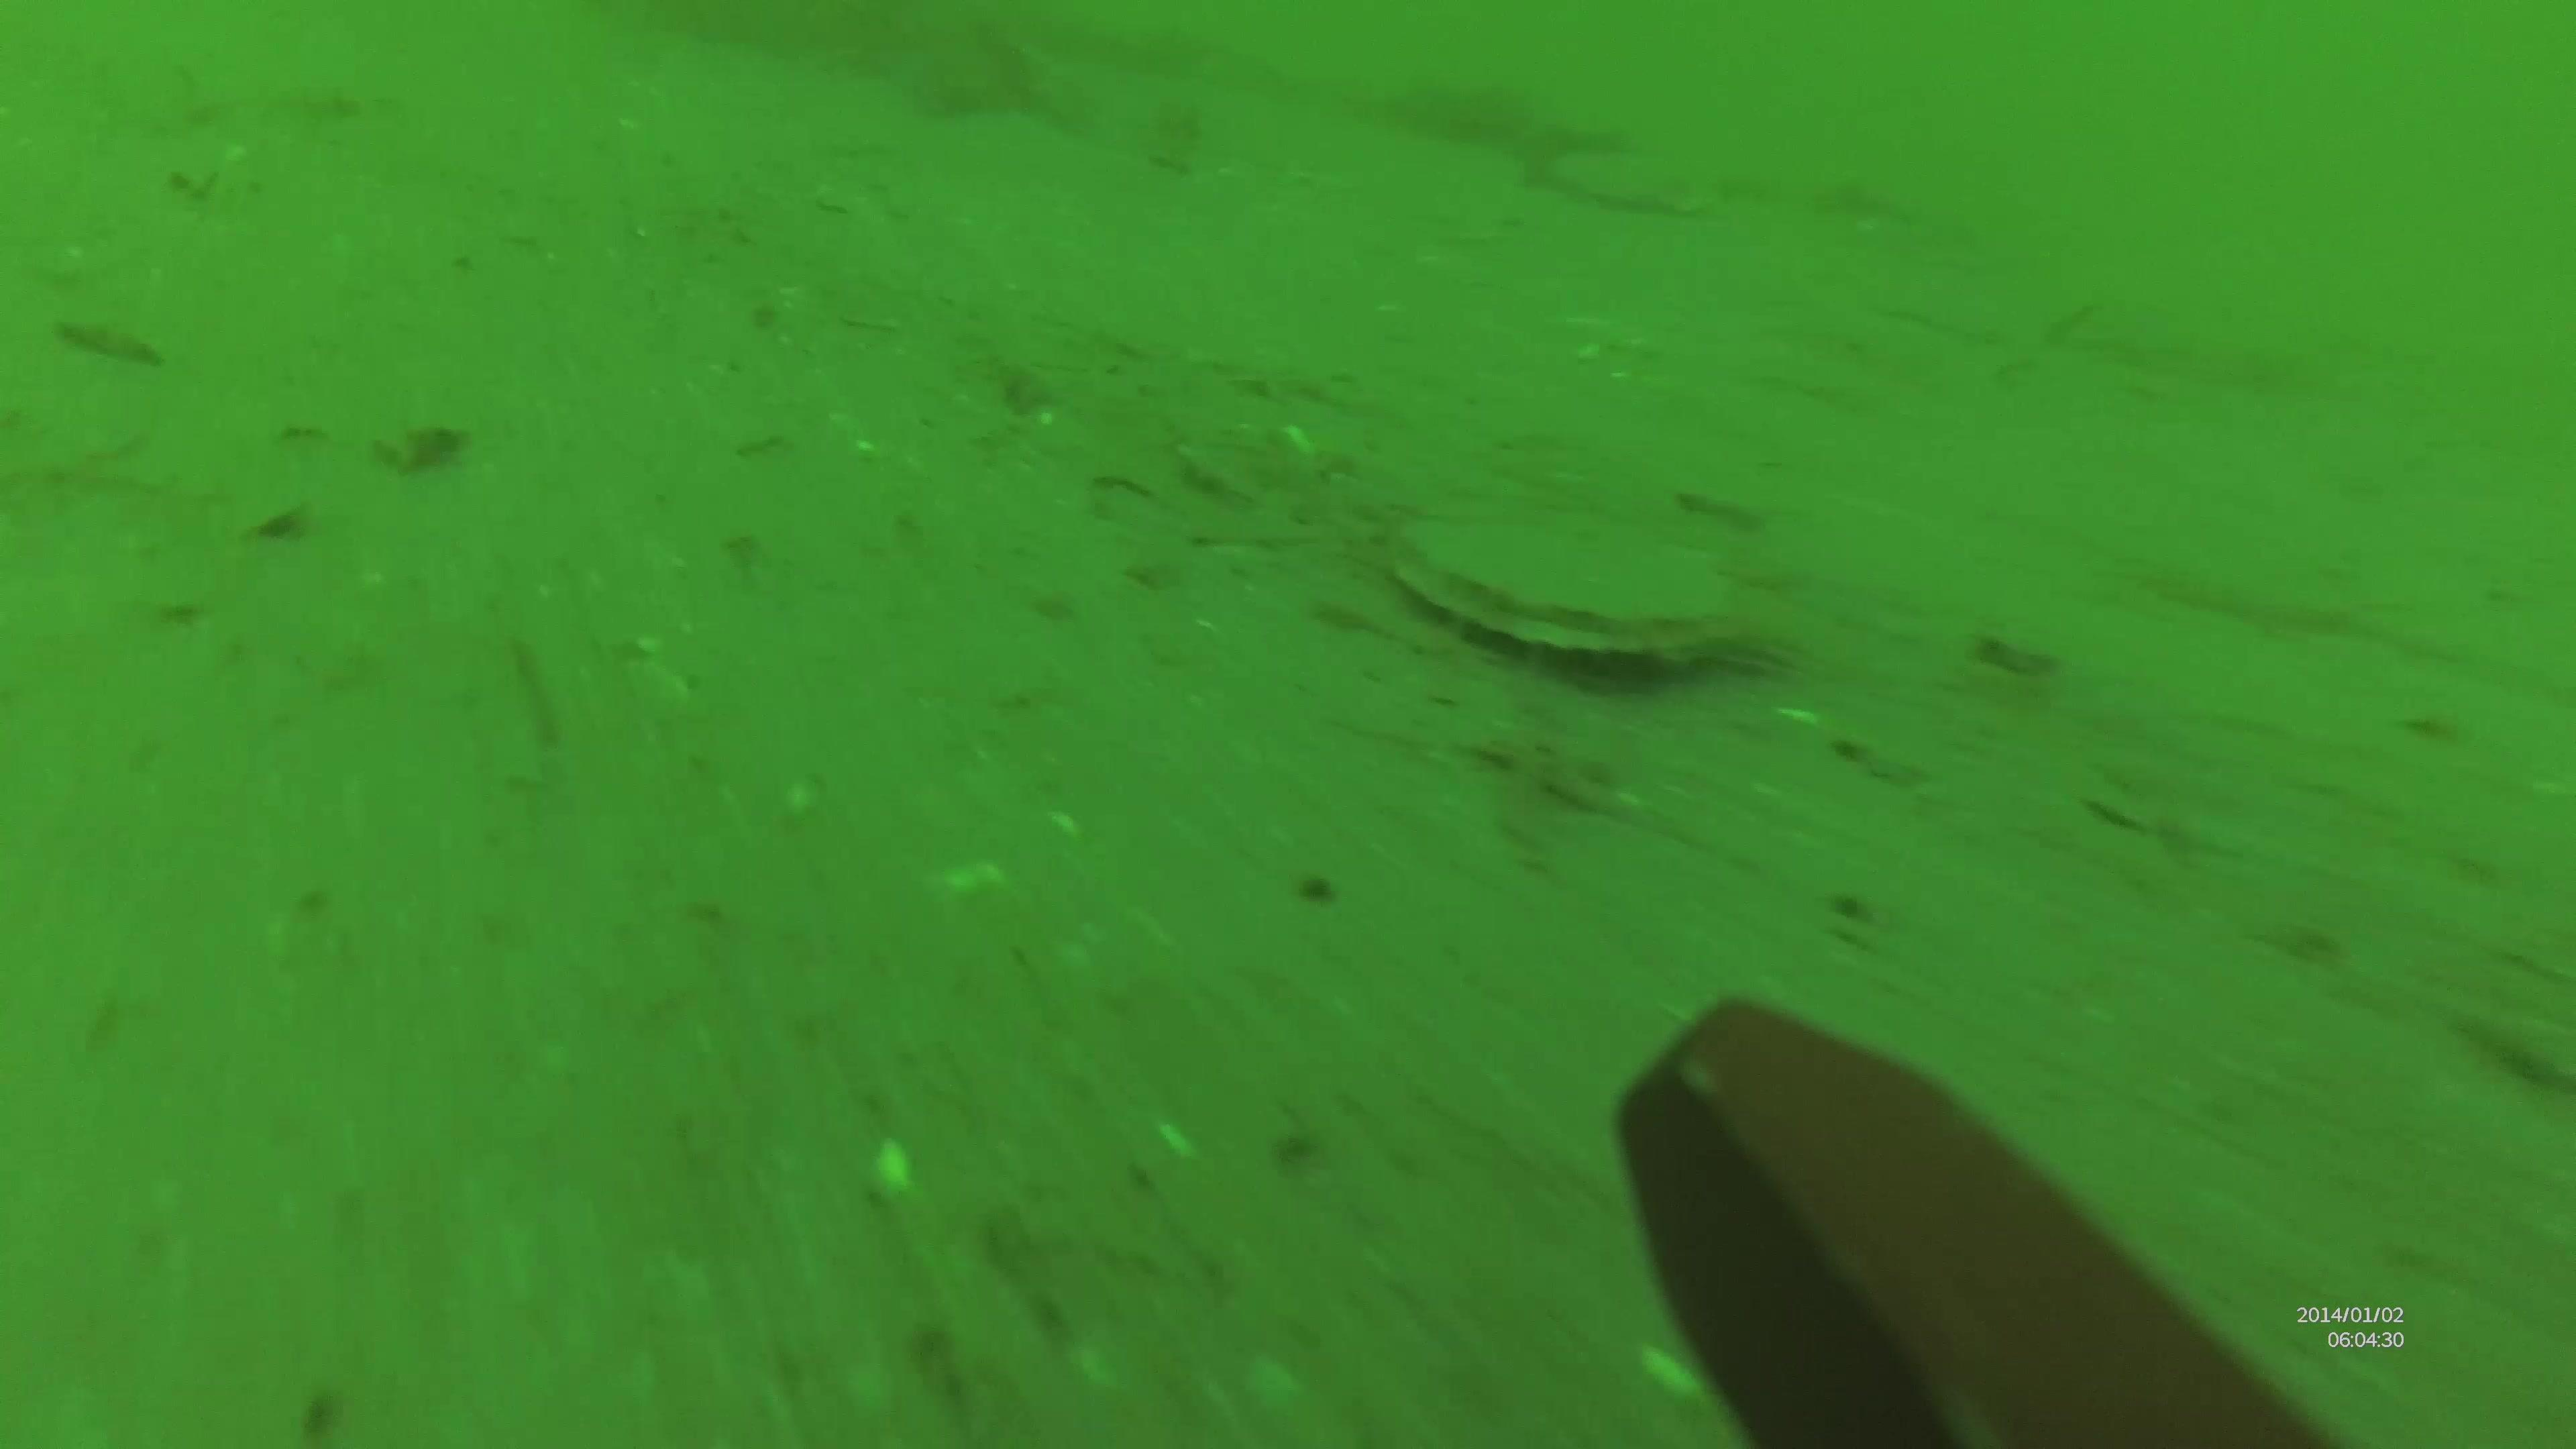scallop: (1399, 501, 1753, 704)
